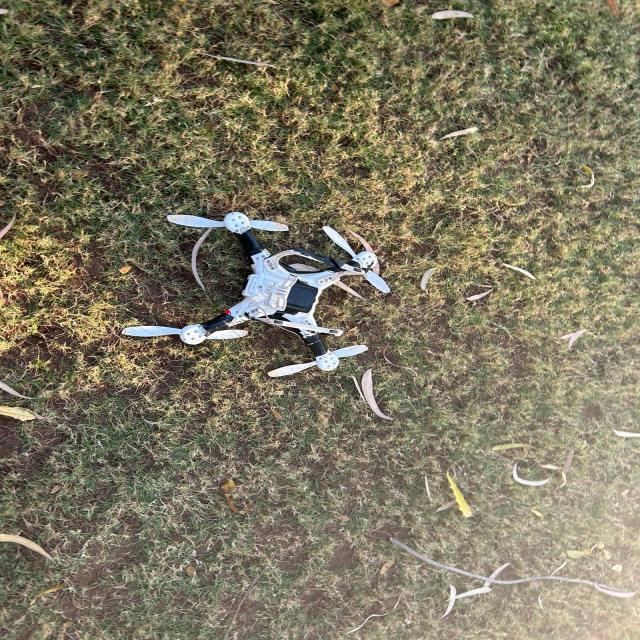drone: (80, 147, 467, 405)
